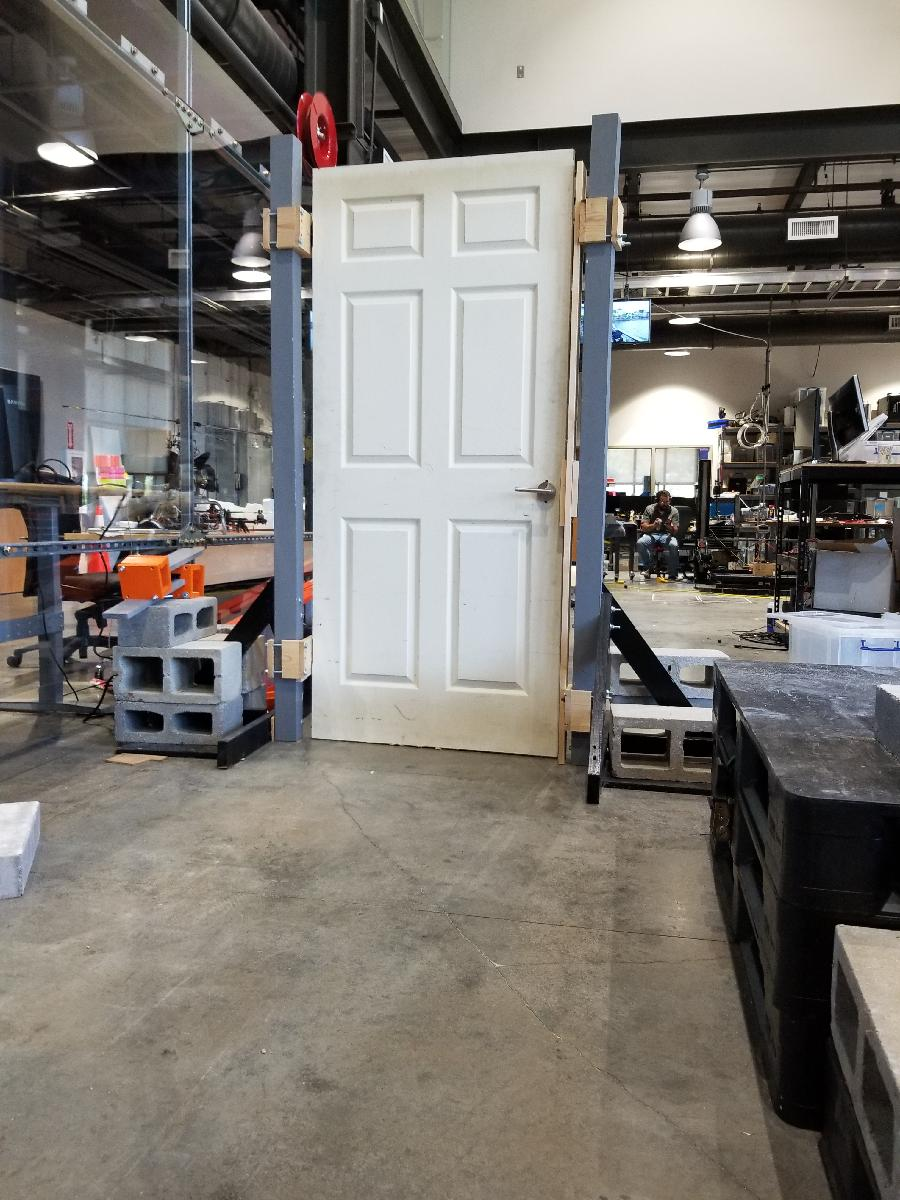door: (309, 141, 579, 765)
doorHandle: (513, 479, 561, 512)
